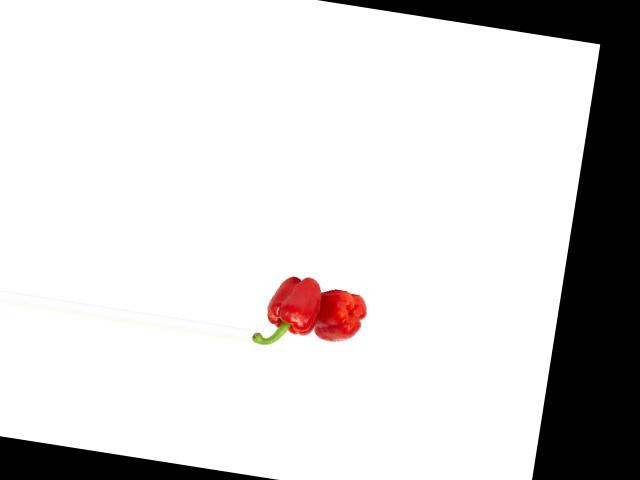bell_pepper: (312, 283, 369, 349)
